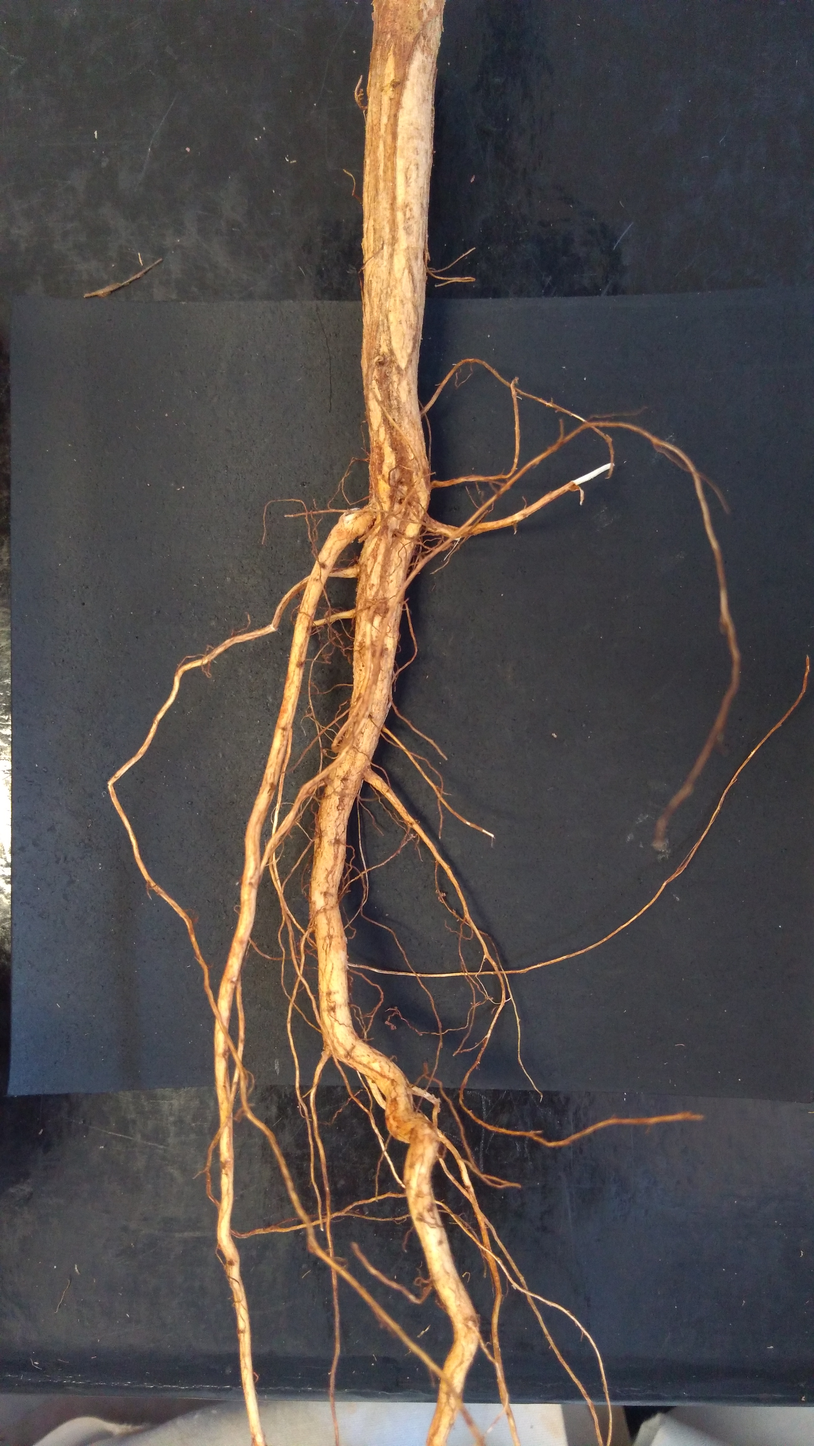nodule: (338, 507, 363, 532), (374, 597, 387, 614), (441, 892, 446, 897)
